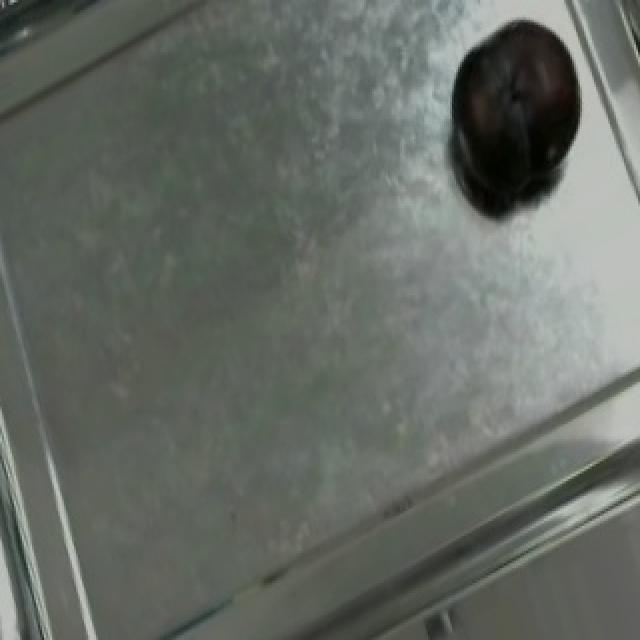Fruit: (426, 0, 612, 221)
